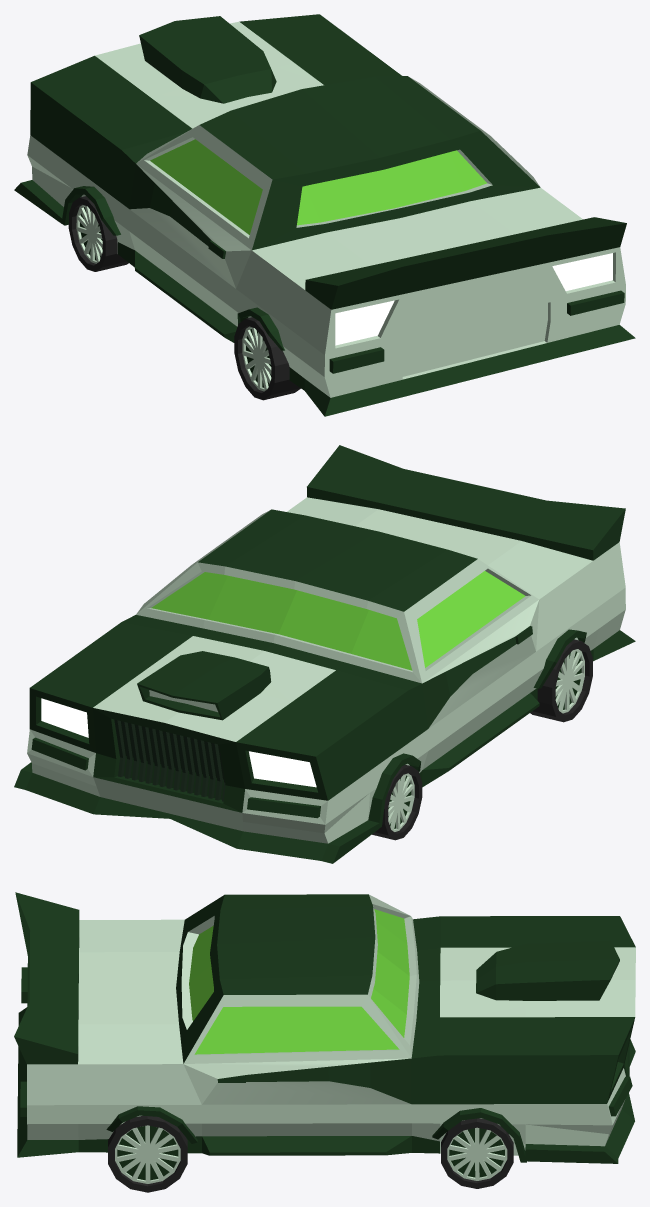
The model's file is Car.FBX.
3 views of the same model, one above another, from view 1: azimuth 30°, elevation 25°; view 2: azimuth 150°, elevation 25°; view 3: azimuth 270°, elevation 25° (orthographic). The views are drawn at different scales.
Visible parts, largest first — view 1: body; view 2: body; view 3: body.
Boxes of the visible parts, left/top/right/bottom form: body: left=14, top=14, right=635, bottom=416; body: left=14, top=445, right=635, bottom=863; body: left=14, top=892, right=635, bottom=1192.
Size of the model in its own units: 138 by 76.27 by 237.
